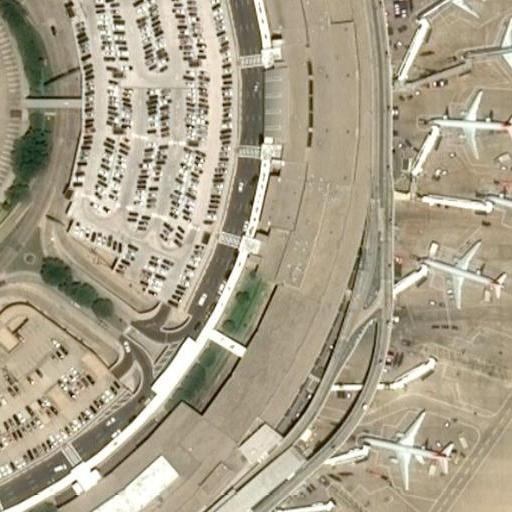Aircraft: (362, 406, 449, 487), (414, 241, 506, 305), (434, 94, 512, 157), (468, 13, 512, 75), (486, 168, 512, 246)
